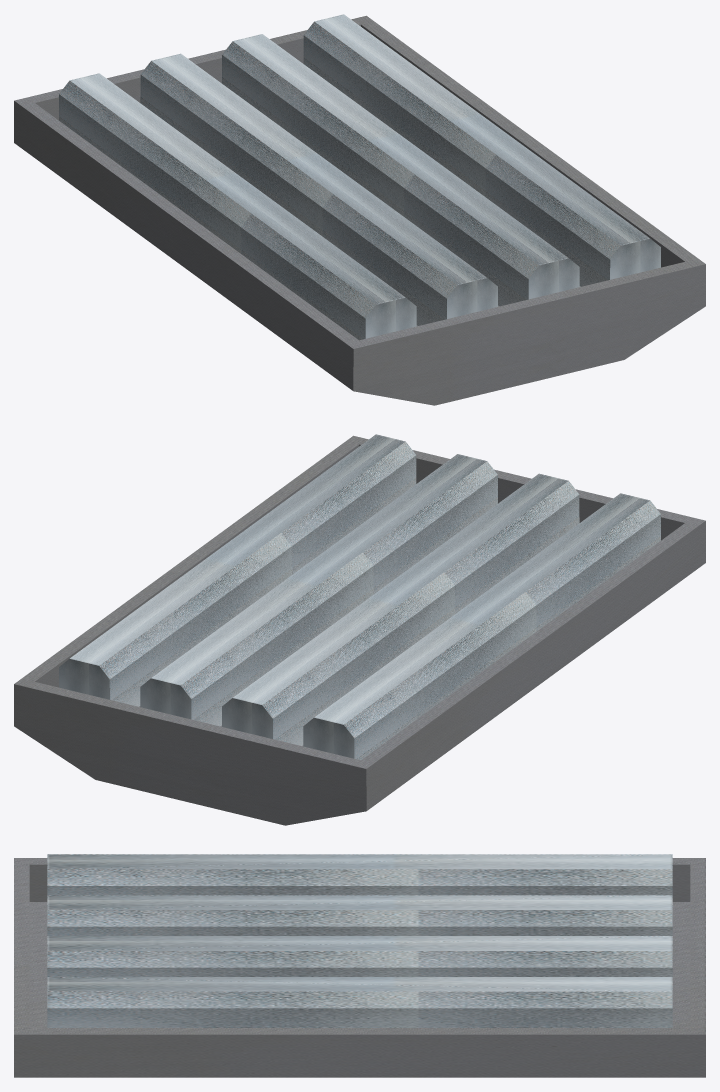
Rendered from Lighting.FBX.
The picture shows the model from 3 angles, top to bottom: view 1: azimuth 30°, elevation 25°; view 2: azimuth 150°, elevation 25°; view 3: azimuth 270°, elevation 25°; orthographic projection.
Visible parts, largest first — view 1: Lighting; view 2: Lighting; view 3: Lighting.
Boxes of the visible parts, x1,y1,x2,y2 form: Lighting: (14,14,705,405); Lighting: (14,434,705,825); Lighting: (14,854,705,1077).
Size of the model in its own units: 54.01 by 14.58 by 90.06.
